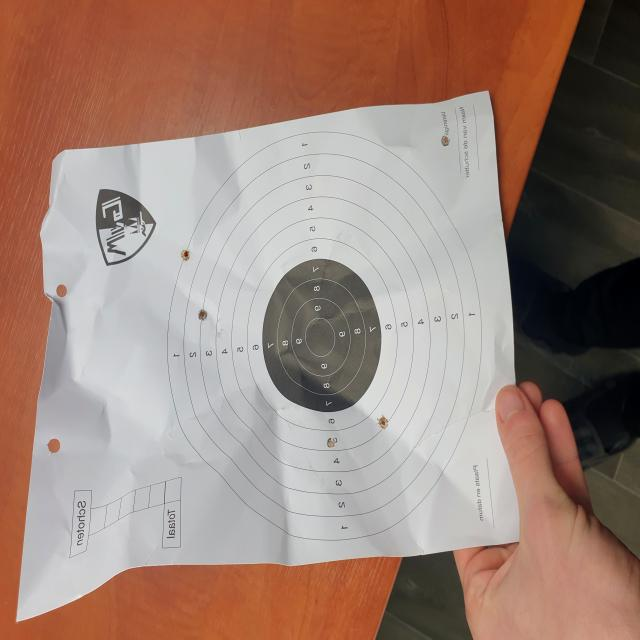0: (440, 134, 450, 148)
1: (180, 249, 190, 261)
3: (197, 308, 208, 323)
5: (376, 416, 388, 431), (325, 436, 336, 449)
Target: (166, 132, 482, 544)
black_contour: (262, 259, 382, 412)
